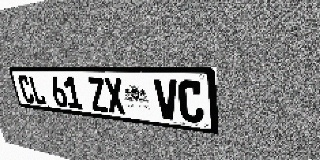1: (62, 76, 83, 109)
6: (48, 76, 69, 108)
C: (177, 80, 204, 124), (17, 75, 36, 104)
L: (28, 75, 47, 105)
V: (154, 79, 180, 121)
X: (103, 78, 126, 115)
Z: (86, 77, 109, 113)
